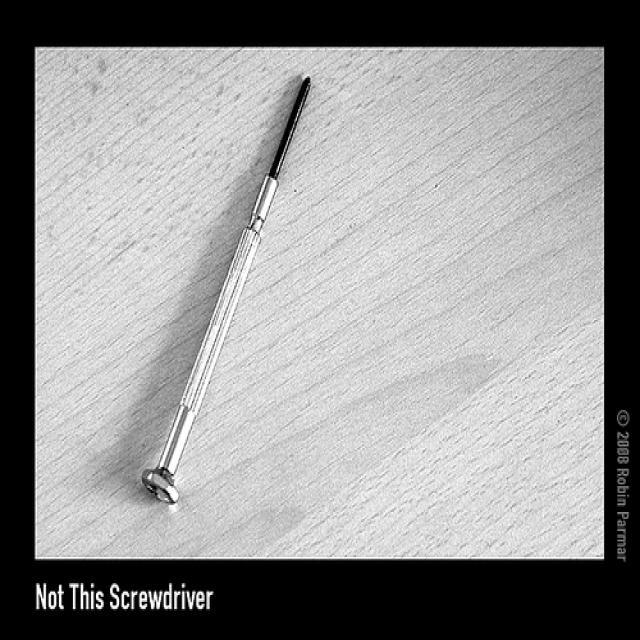screwdriver: (136, 44, 318, 526)
